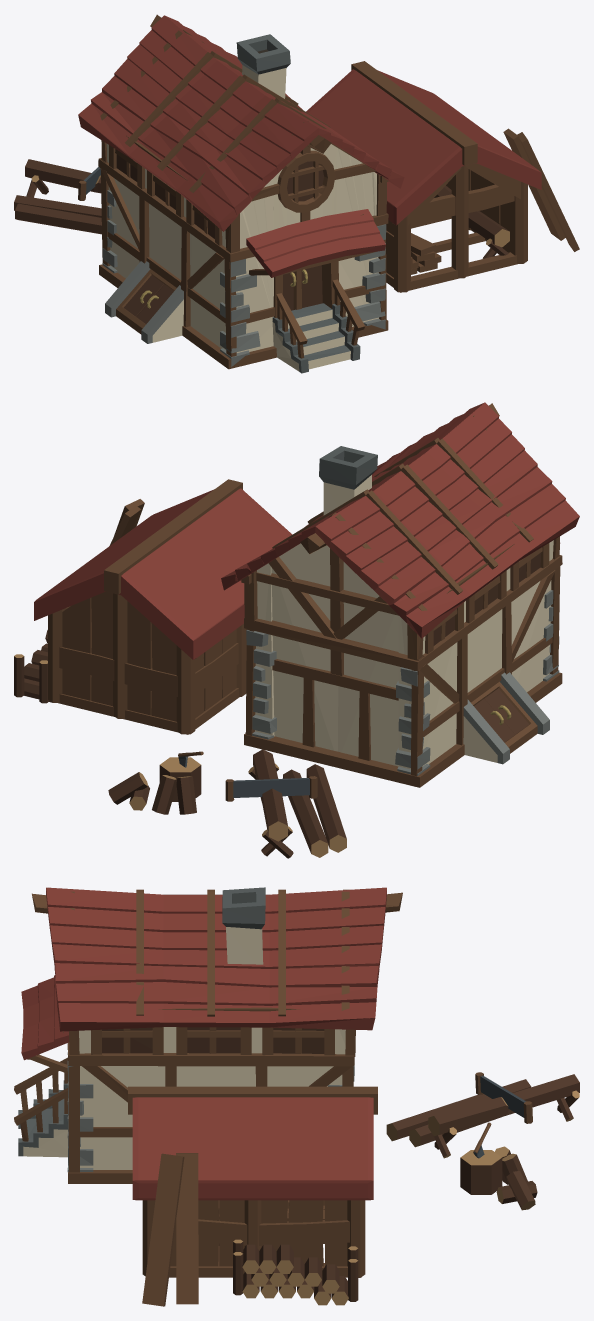
File: LumberMill_Construction_RED.glb
3 renders of one model, top to bottom at view 1: azimuth 30°, elevation 25°; view 2: azimuth 150°, elevation 25°; view 3: azimuth 270°, elevation 25°, orthographic. The views are drawn at different scales.
Parts seen in each view (by area): view 1: Stage_04_Roofed, Stage_05_Complete, Stage_03_RoofFrame, Stage_02_FirstFloor, Stage_01_Foundation; view 2: Stage_05_Complete, Stage_04_Roofed, Stage_03_RoofFrame, Stage_02_FirstFloor, Stage_01_Foundation; view 3: Stage_04_Roofed, Stage_05_Complete, Stage_03_RoofFrame, Stage_02_FirstFloor, Stage_01_Foundation.
Boxes of the visible parts, x1=… form: Stage_04_Roofed: x1=78, y1=15, x2=541, y2=277; Stage_05_Complete: x1=14, y1=34, x2=575, y2=371; Stage_03_RoofFrame: x1=14, y1=14, x2=579, y2=360; Stage_02_FirstFloor: x1=98, y1=158, x2=527, y2=373; Stage_01_Foundation: x1=99, y1=216, x2=517, y2=369; Stage_05_Complete: x1=14, y1=446, x2=559, y2=857; Stage_04_Roofed: x1=34, y1=402, x2=579, y2=847; Stage_03_RoofFrame: x1=15, y1=403, x2=561, y2=858; Stage_02_FirstFloor: x1=52, y1=555, x2=562, y2=776; Stage_01_Foundation: x1=58, y1=672, x2=562, y2=787; Stage_04_Roofed: x1=21, y1=887, x2=531, y2=1199; Stage_05_Complete: x1=23, y1=887, x2=578, y2=1306; Stage_03_RoofFrame: x1=26, y1=889, x2=579, y2=1304; Stage_02_FirstFloor: x1=14, y1=1053, x2=364, y2=1264; Stage_01_Foundation: x1=68, y1=1148, x2=361, y2=1277.
Size of the model in its own units: 10.29 by 5.71 by 10.76.
Materials: 1 (1 with a texture image).
